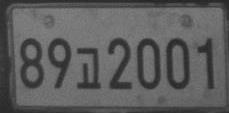0: (135, 36, 161, 90), (164, 36, 190, 90)
1: (195, 37, 221, 89)
2: (106, 37, 132, 89)
8: (18, 37, 44, 89)
9: (46, 36, 72, 89)
고: (75, 46, 101, 89)
